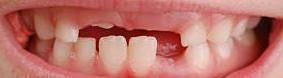Hypodontia: (153, 38, 187, 59)
